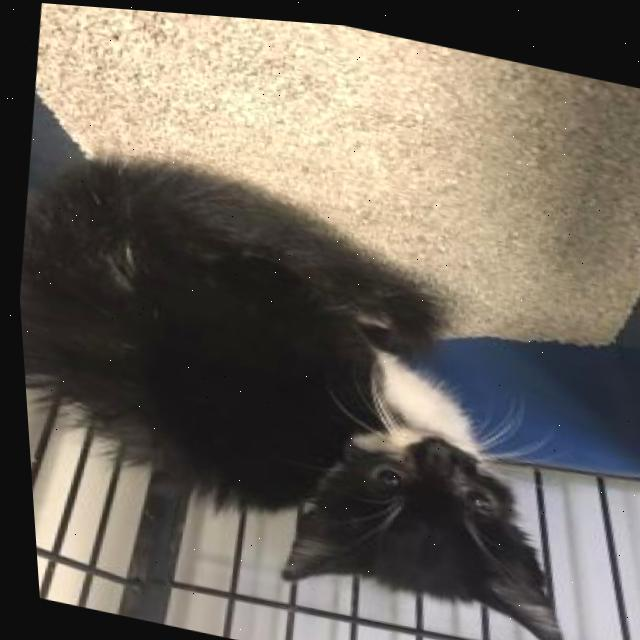Tuxedo: (6, 124, 617, 640)
